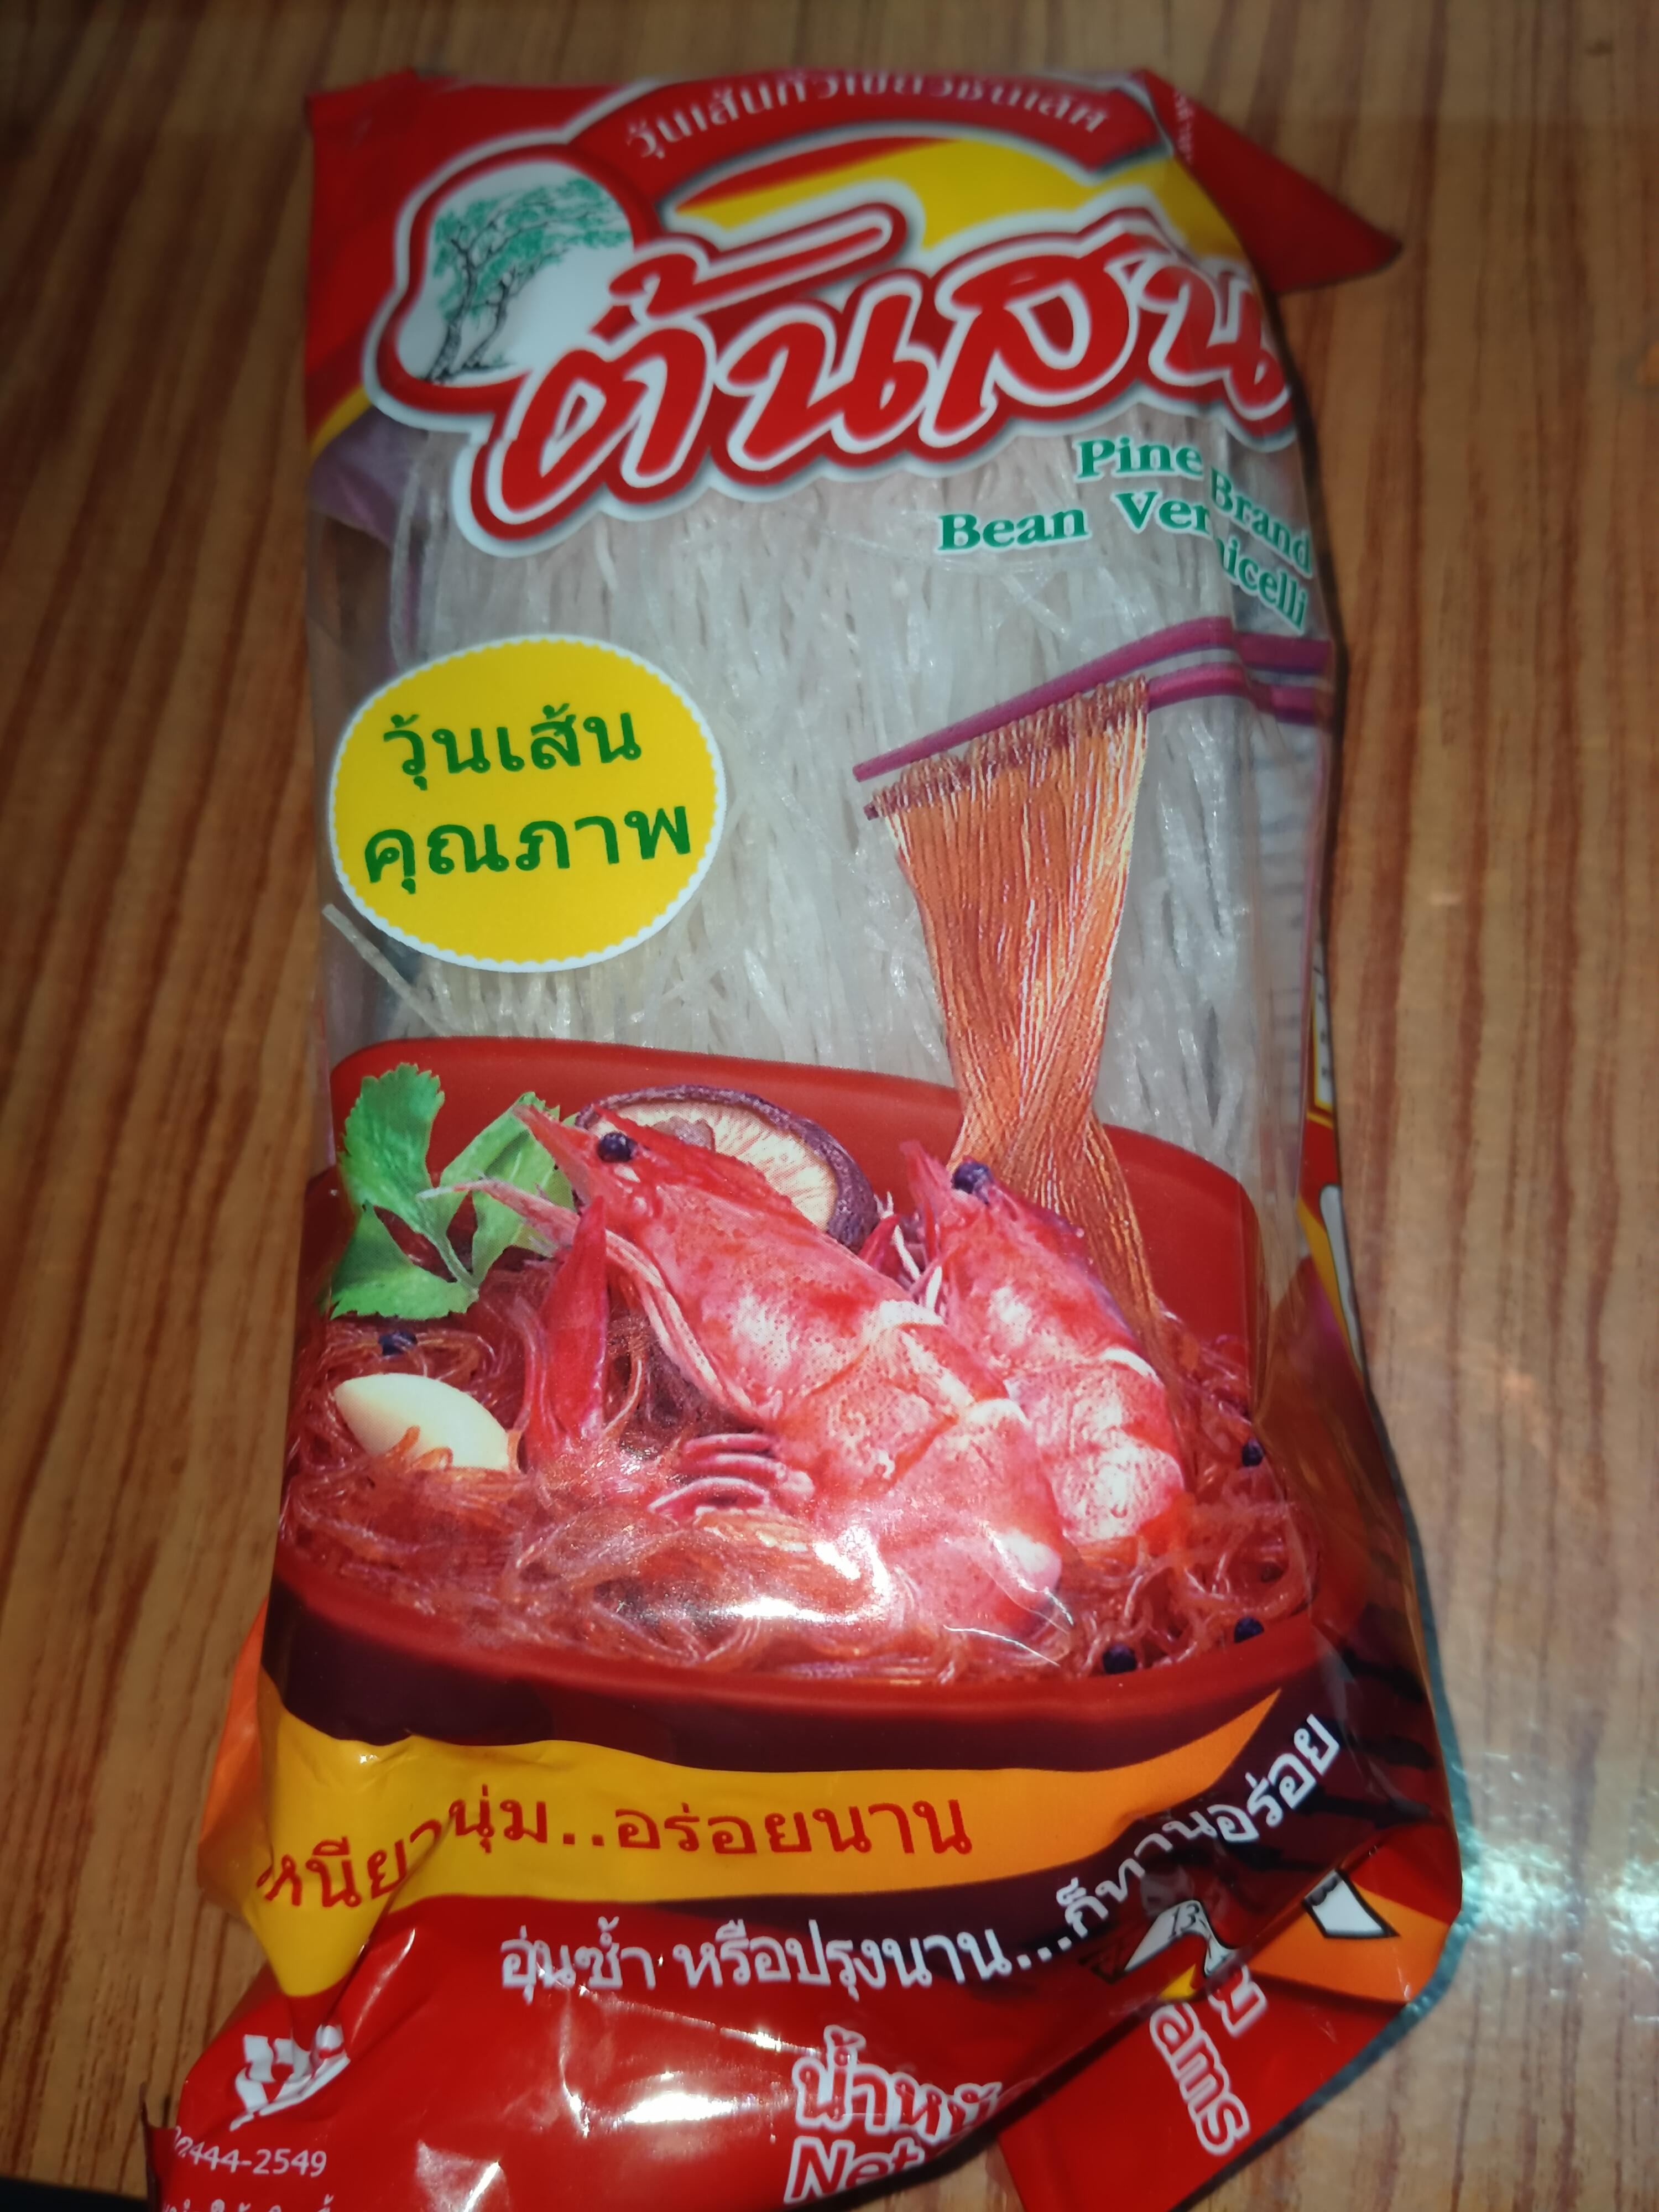plastic: (134, 0, 1488, 2212)
